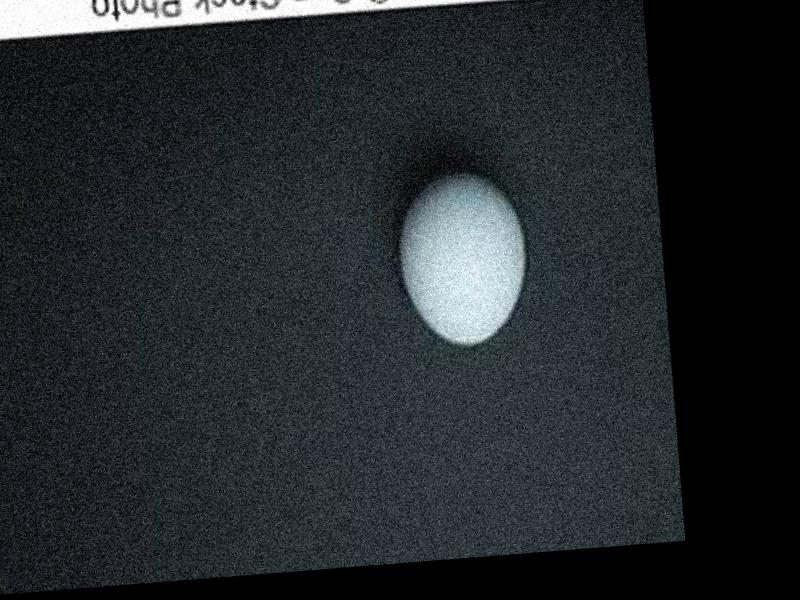Eggs: (394, 168, 535, 350)
